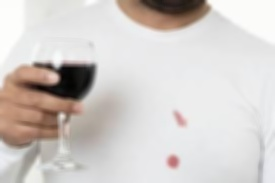wine: (172, 109, 189, 127), (164, 156, 182, 171)
